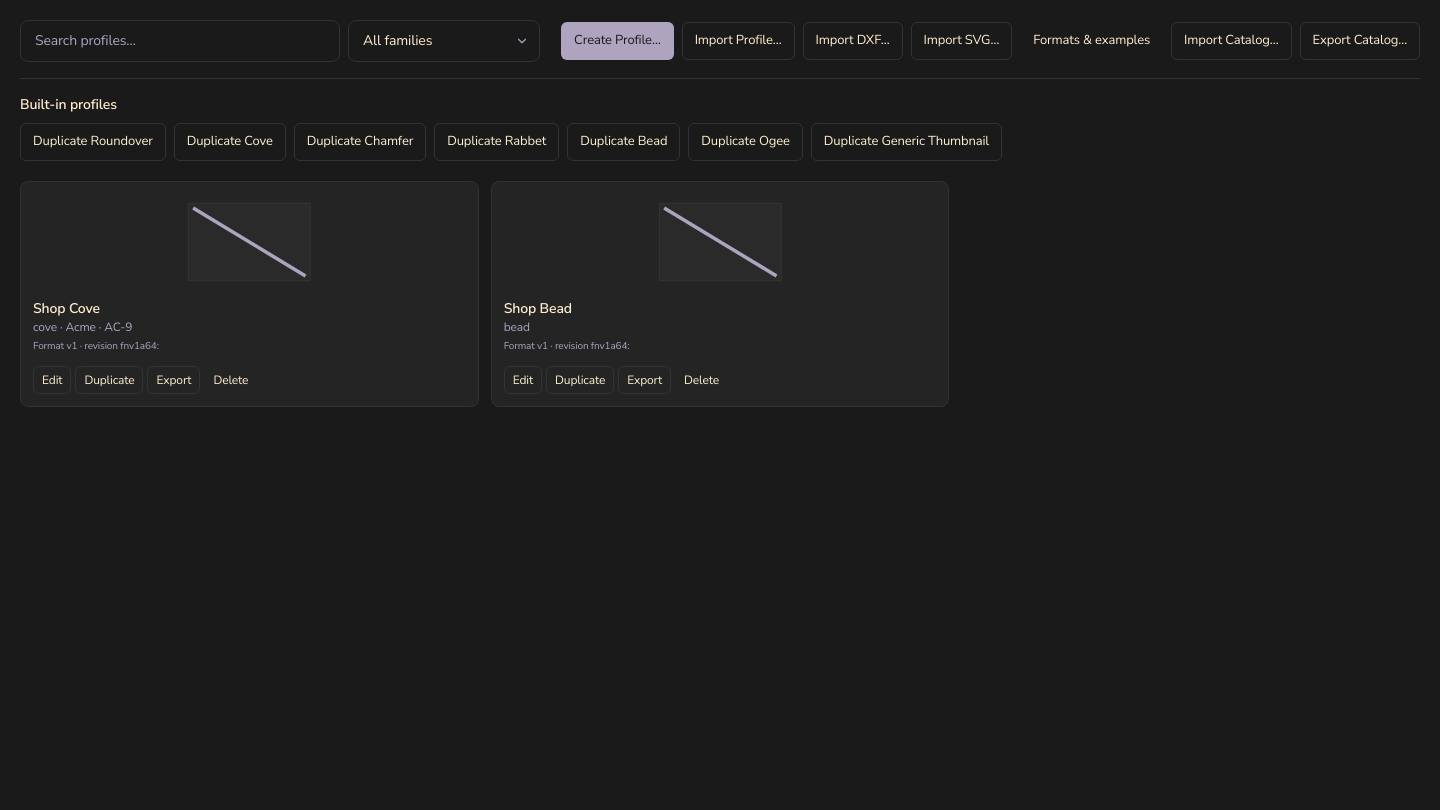
it: RouterProfilesTab › opens a built-in profile as an editable custom copy
This screenshot has width=1440, height=810.
Click the button "Duplicate Roundover": [93, 142] box [20,123,166,160]
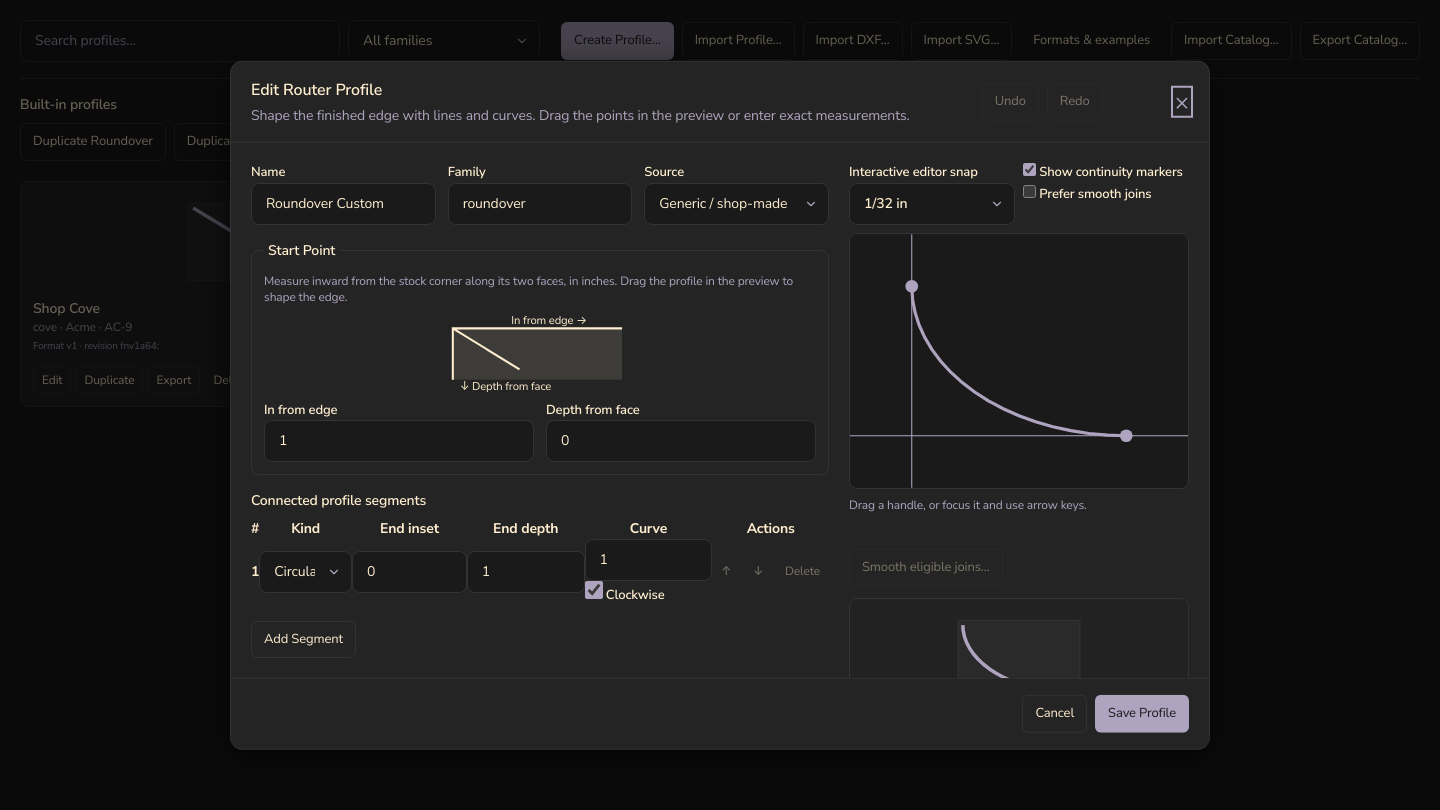
expect the dialog is shown: met, box [230,61,1210,749]
